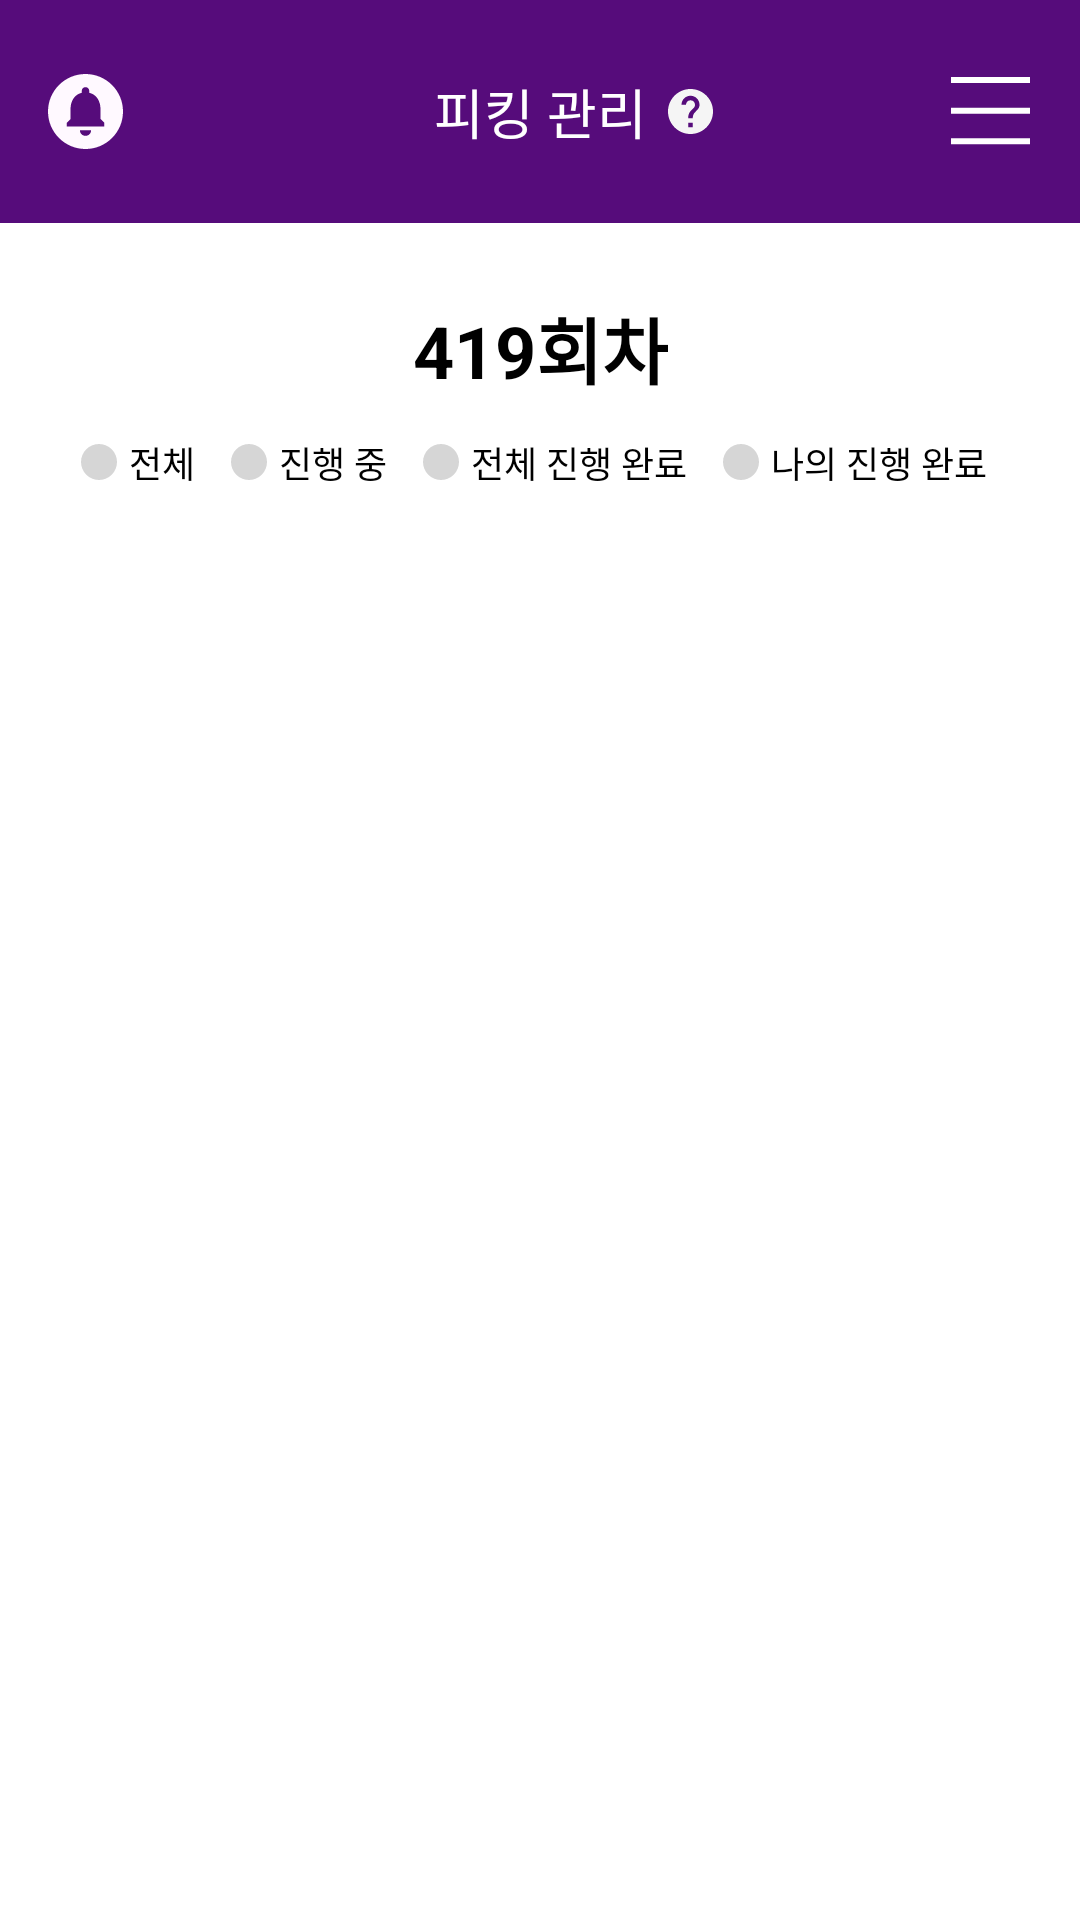

Screen size 1080w x 1920h. Icon name, then its center in pixels as [x,y]:
menu: [990,111]
notice: [85,111]
question: [690,111]
